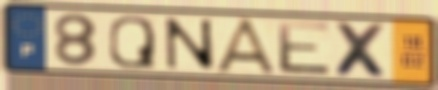8: (52, 12, 99, 68)
A: (212, 16, 284, 77)
E: (274, 19, 335, 78)
N: (162, 16, 219, 72)
Q: (107, 14, 159, 71)
X: (332, 19, 394, 80)
